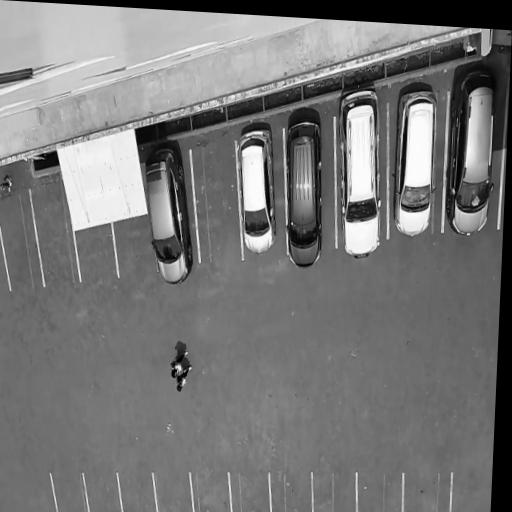Car: (443, 65, 500, 240), (333, 81, 384, 271), (141, 142, 196, 291), (394, 81, 438, 242), (284, 109, 322, 277), (237, 120, 276, 256)
Space Available: (191, 141, 244, 263), (30, 189, 81, 285), (0, 189, 44, 291), (112, 214, 158, 277), (75, 221, 119, 283), (403, 472, 452, 512), (312, 472, 356, 512), (358, 474, 404, 512), (451, 472, 492, 512), (271, 472, 312, 512), (192, 472, 231, 512), (229, 474, 269, 512), (118, 474, 157, 512), (83, 474, 122, 512), (153, 475, 192, 512), (52, 474, 89, 512)
